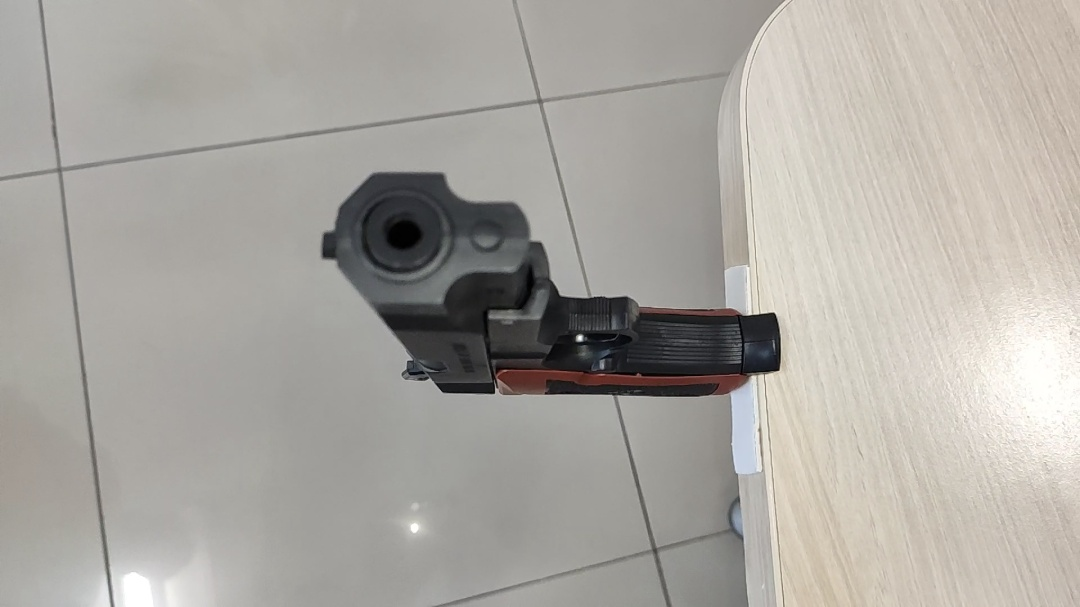gun: (608, 231, 655, 255)
